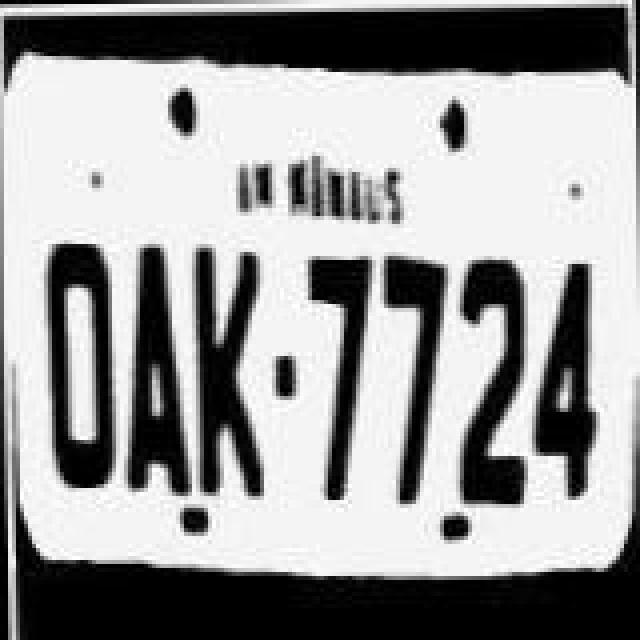2: (452, 242, 532, 514)
4: (530, 254, 606, 506)
7: (296, 246, 380, 506), (374, 242, 454, 506)
A: (116, 238, 192, 502)
K: (188, 240, 272, 508)
O: (28, 230, 120, 498)
